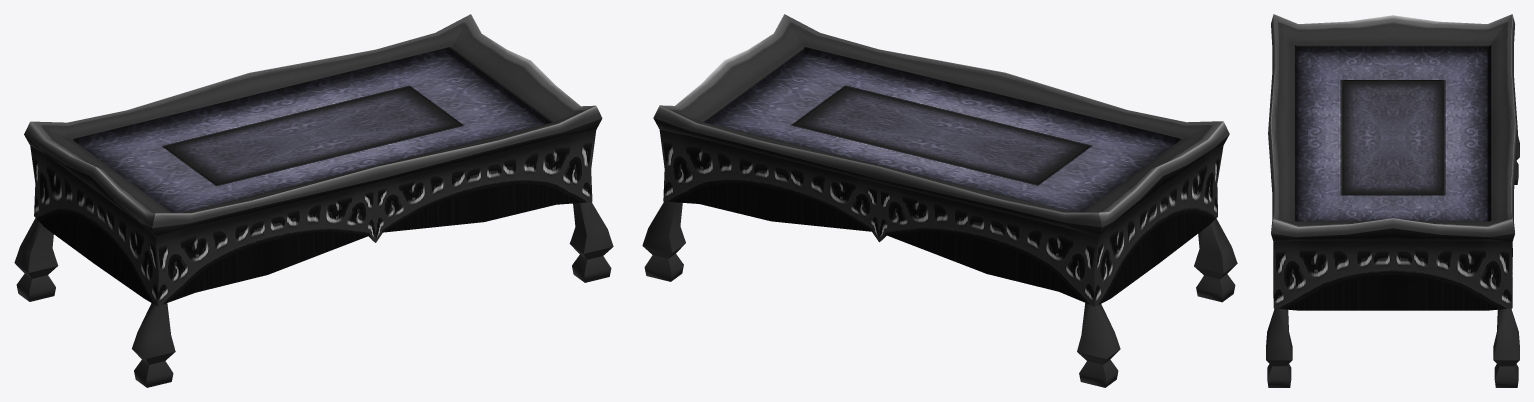
The model's file is GothicDiningTable_HD.fbx.
3 renders of one model, left to right at view 1: azimuth 30°, elevation 25°; view 2: azimuth 150°, elevation 25°; view 3: azimuth 270°, elevation 25°, orthographic. The views are drawn at different scales.
Visible parts, largest first — view 1: GothicDiningTable; view 2: GothicDiningTable; view 3: GothicDiningTable.
Boxes of the visible parts, x1,y1,x2,y2 form: GothicDiningTable: (14,14,613,387); GothicDiningTable: (642,14,1237,387); GothicDiningTable: (1266,14,1519,387).
Bounding box in the file's own units: 1.97 × 0.6955 × 0.9766.
